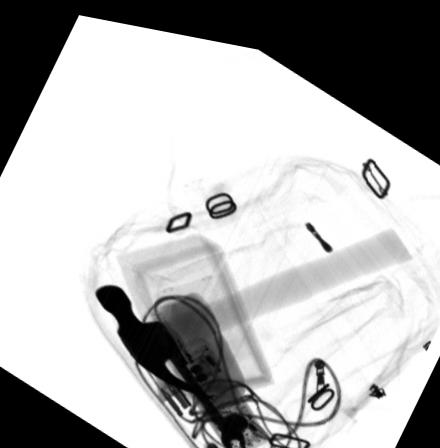Hammer: (95, 211, 411, 391)
Wrench: (146, 315, 245, 447)
